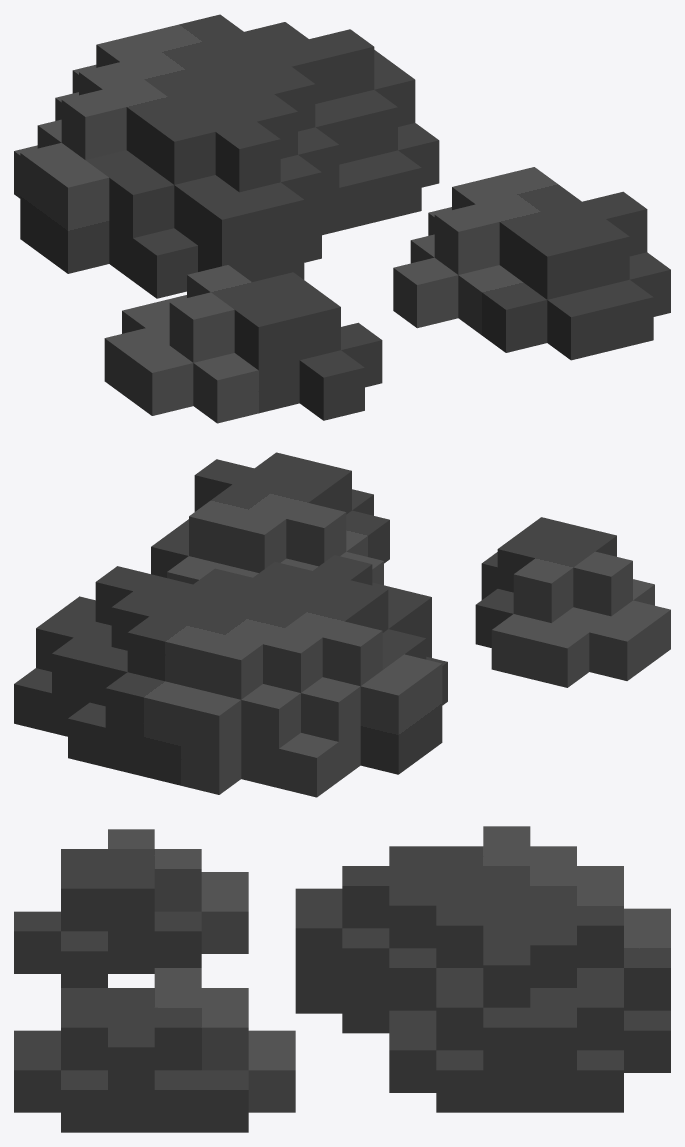
Rendered from props-4.gltf.
3 views of the same model, one above another, from view 1: azimuth 30°, elevation 25°; view 2: azimuth 150°, elevation 25°; view 3: azimuth 270°, elevation 25° (orthographic). The views are drawn at different scales.
Parts seen in each view (by area): view 1: Content (59)-Mesh; view 2: Content (59)-Mesh; view 3: Content (59)-Mesh.
Part boxes in pixels (x1=…): Content (59)-Mesh: x1=14, y1=14, x2=670, y2=423; Content (59)-Mesh: x1=14, y1=452, x2=670, y2=797; Content (59)-Mesh: x1=14, y1=826, x2=670, y2=1132.
Size of the model in its own units: 12 by 3 by 14.
1 material, 1 textured.
